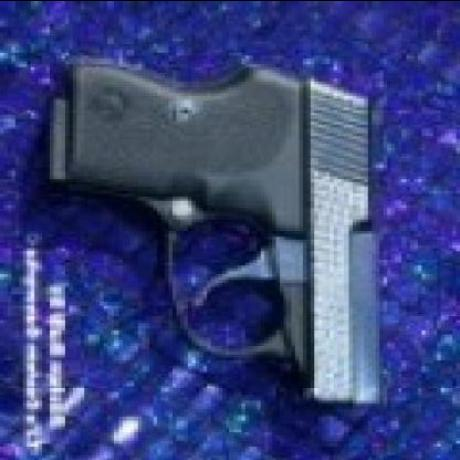weapon: (40, 50, 402, 411)
